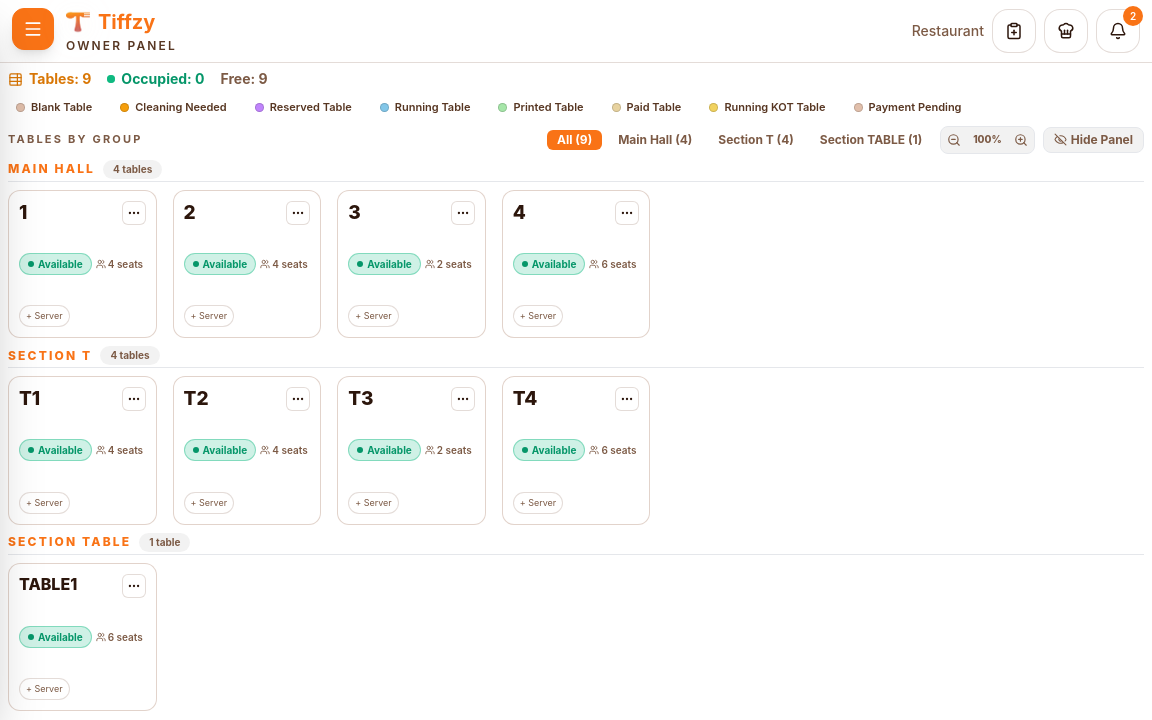
COMPLETE FUNCTIONAL QA AUDIT: Owner Dashboard (/owner) › TC-05: Zoom In, Zoom Out, Min, Max, Reset
Expected: the button named "Zoom Out" is shown, x1=943 y1=128 x2=965 y2=150
Expected: the text "100%" is shown, x1=973 y1=133 x2=1002 y2=145
Click the button named "Zoom In".
click(1021, 140)  # box x1=1010 y1=128 x2=1032 y2=150
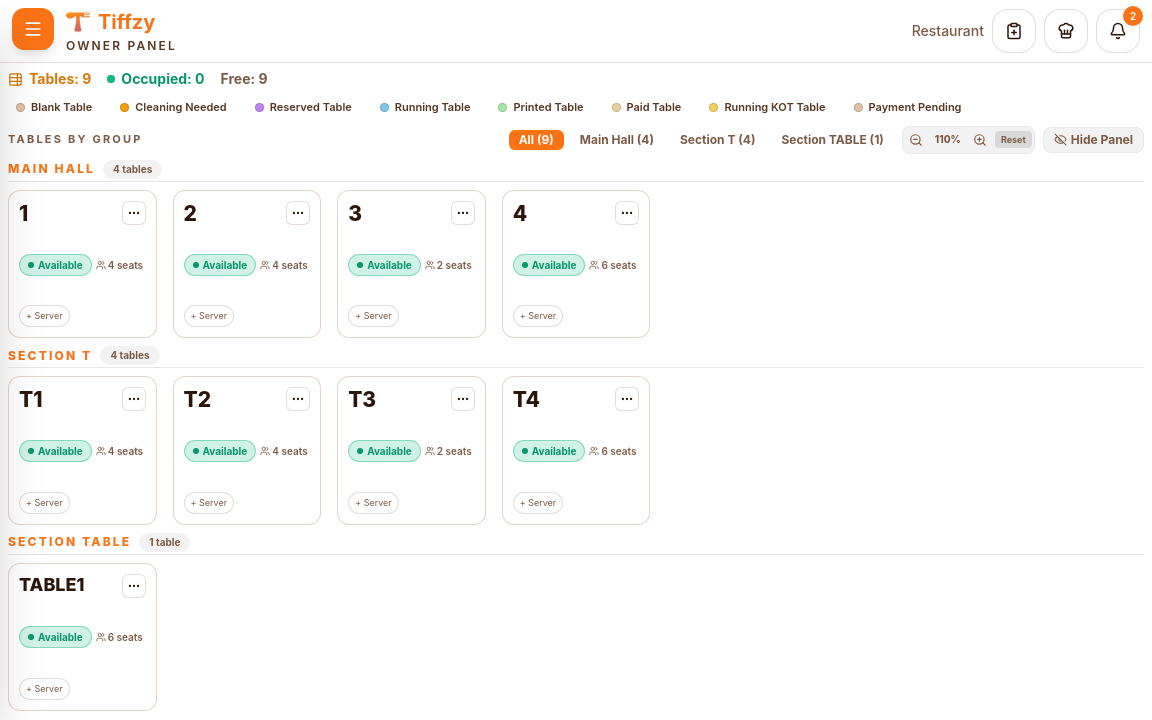
Expected: the text "110%" is shown, x1=935 y1=133 x2=961 y2=145
Expected: the button "Reset" is shown
Click the button "Reset".
click(1013, 140)  # box x1=995 y1=131 x2=1032 y2=148
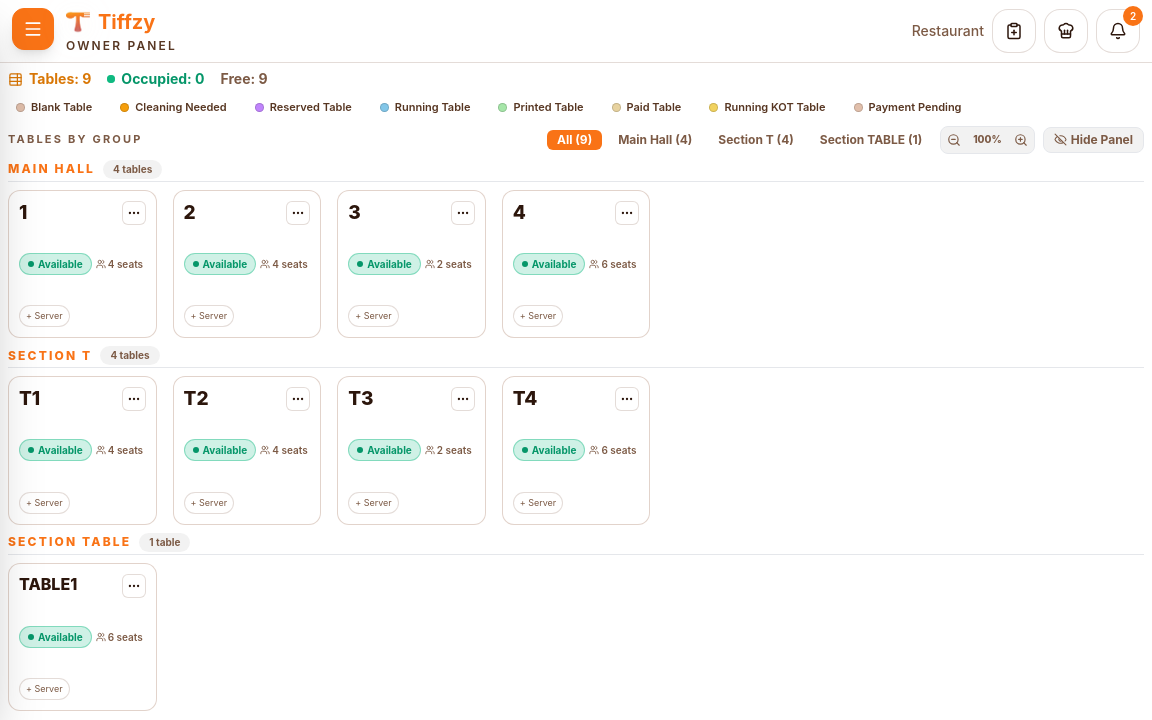
Expected: the text "100%" is shown, x1=973 y1=133 x2=1002 y2=145
Click the button named "Zoom Out".
click(954, 140)  # box x1=943 y1=128 x2=965 y2=150
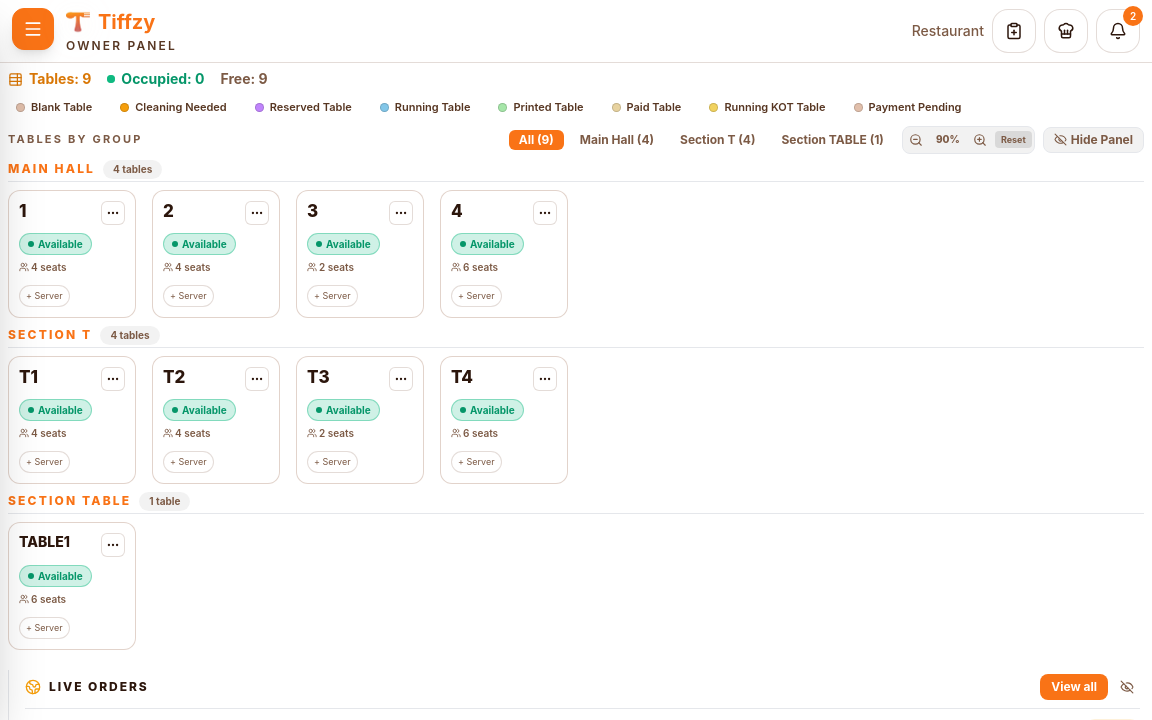
Expected: the text "90%" is shown, x1=936 y1=133 x2=960 y2=145
